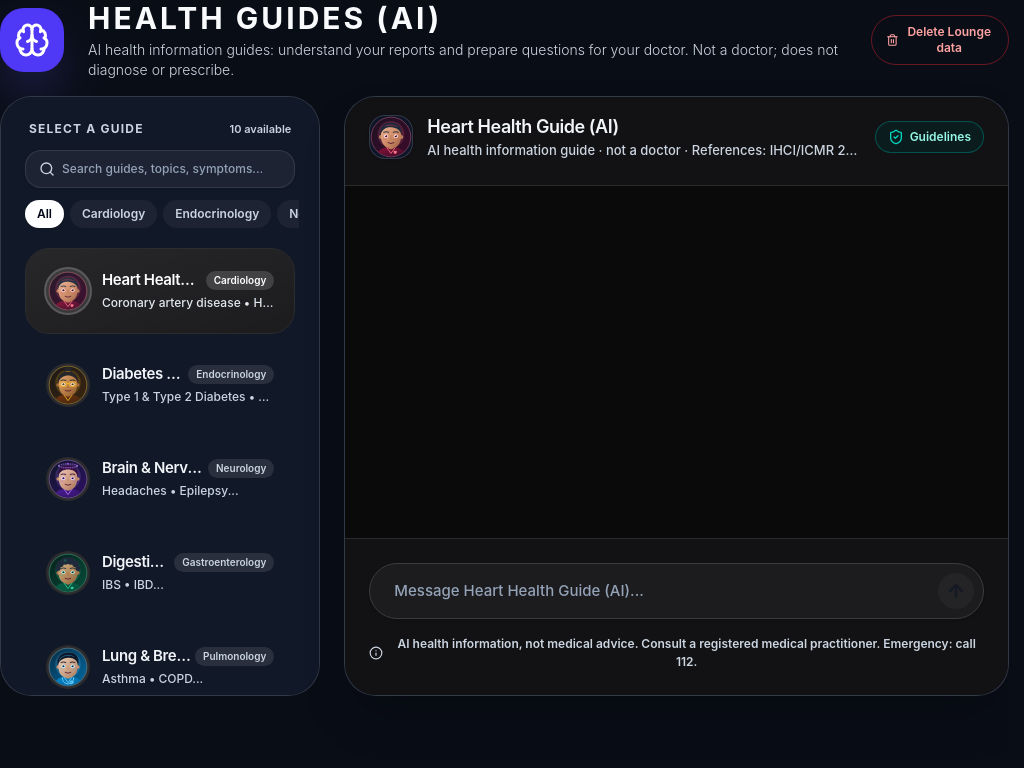
Test: SpecialistLounge — consent, delete data, pseudonymisation › 'Delete Lounge data' asks for confirmation, then deletes this profile's Lounge data
The image size is (1024, 768).
(page scrolled)
Click the button "Delete Lounge data": (940, 40) x1=871 y1=15 x2=1009 y2=65
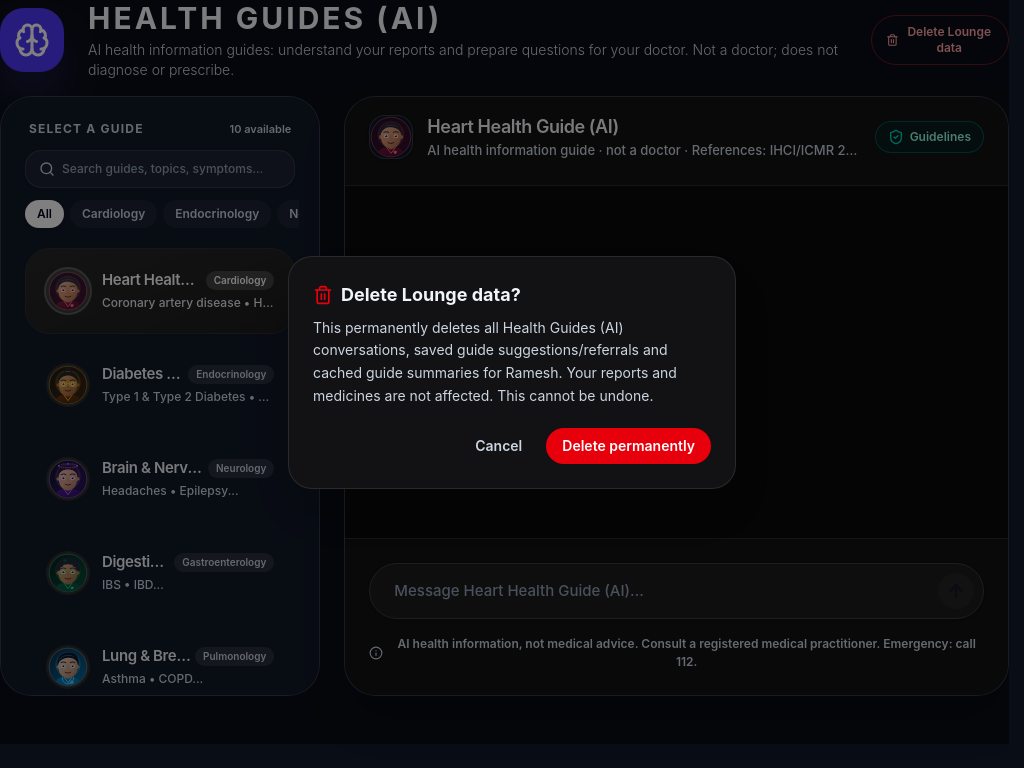
Check: the dialog is shown, box x1=288 y1=256 x2=736 y2=488
Click the button "Cancel": (499, 446) x1=459 y1=428 x2=538 y2=464
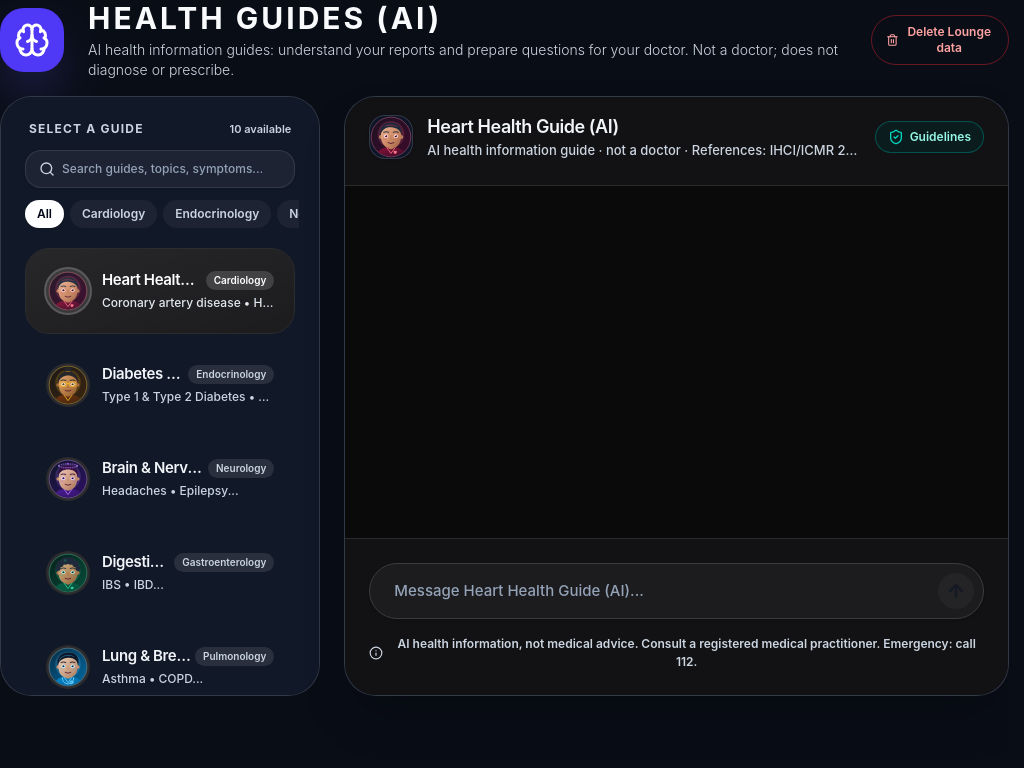
Check: the dialog is gone
Click the button "Delete Lounge data": (940, 40) x1=871 y1=15 x2=1009 y2=65
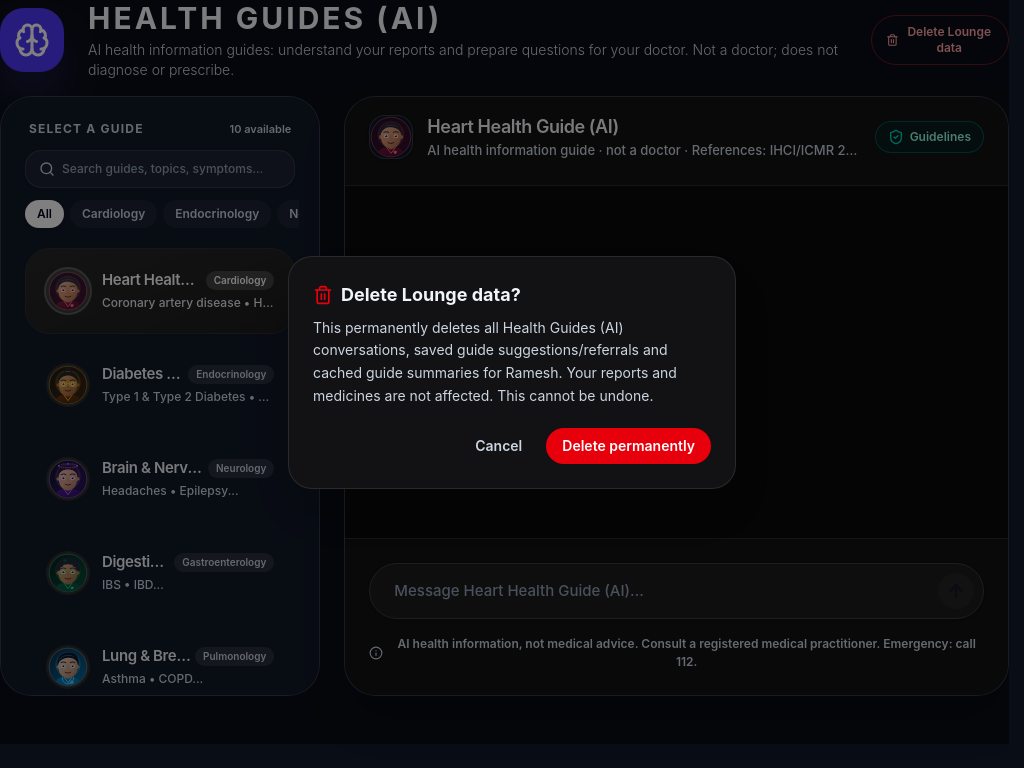
Click the button "Delete permanently": (629, 446) x1=546 y1=428 x2=711 y2=464
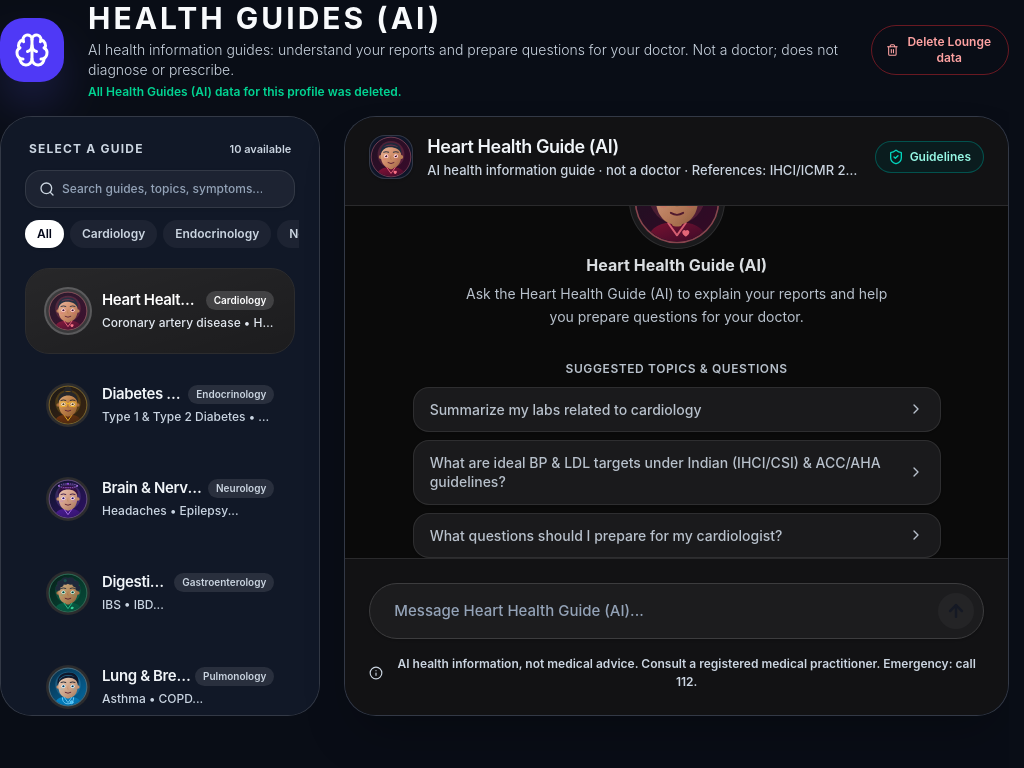
Check: the message shows "deleted", box x1=88 y1=84 x2=402 y2=99
